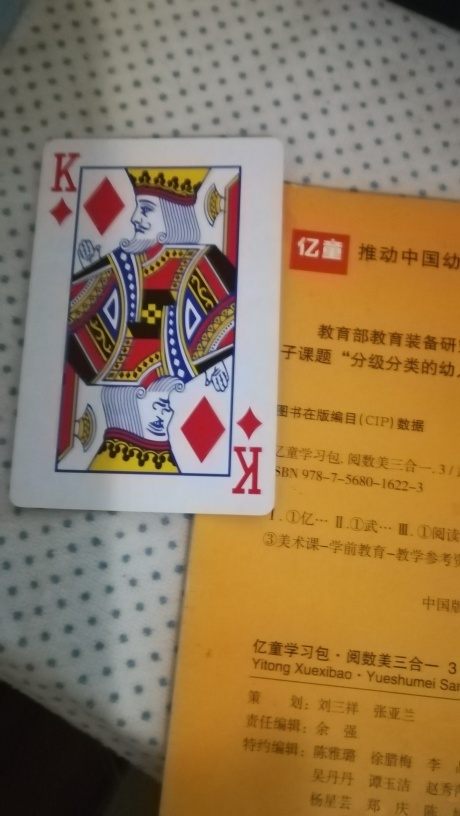fk k: (9, 130, 283, 522)
